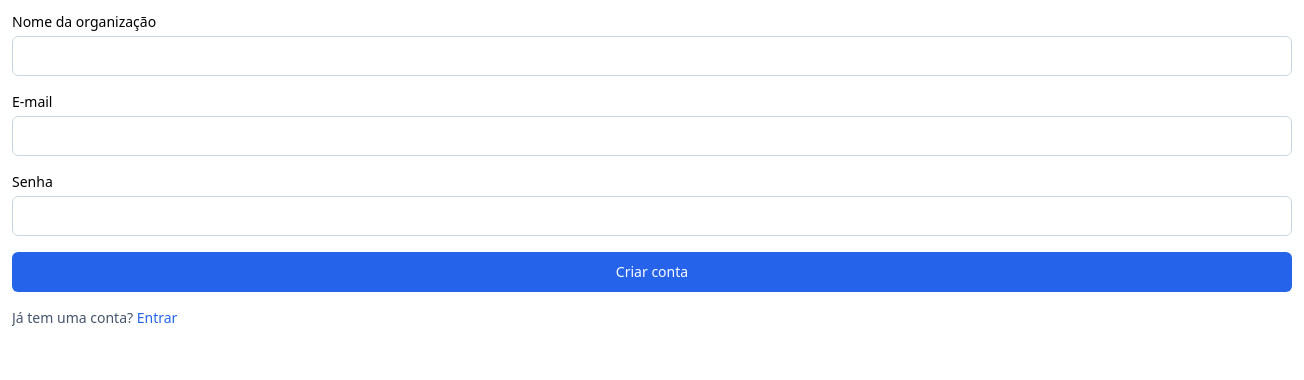
Test: RegisterForm › should show an error message when registration fails
Type "Minha Empresa" into the field labelled "Nome da organização" at (652, 56), box [12,36,1292,76]
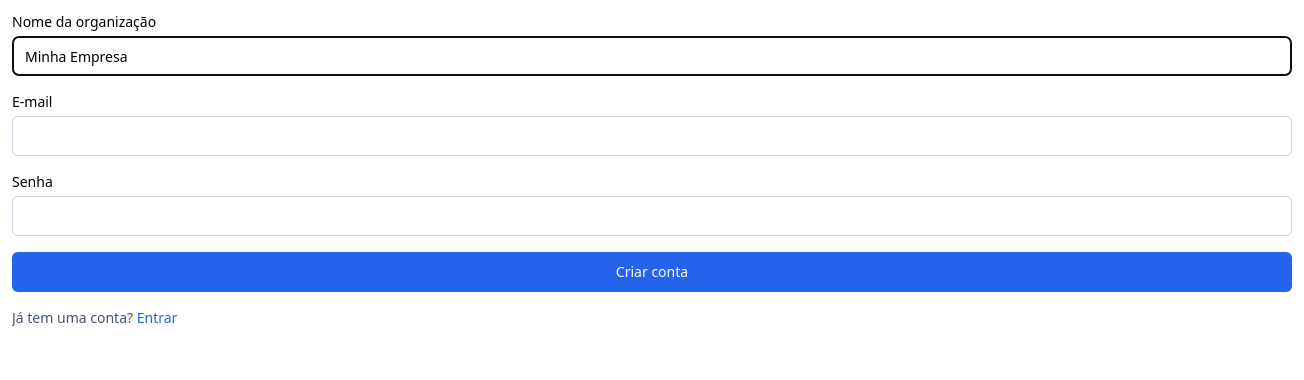
Type "user@example.com" into the field labelled "E-mail" at (652, 136), box [12,116,1292,156]
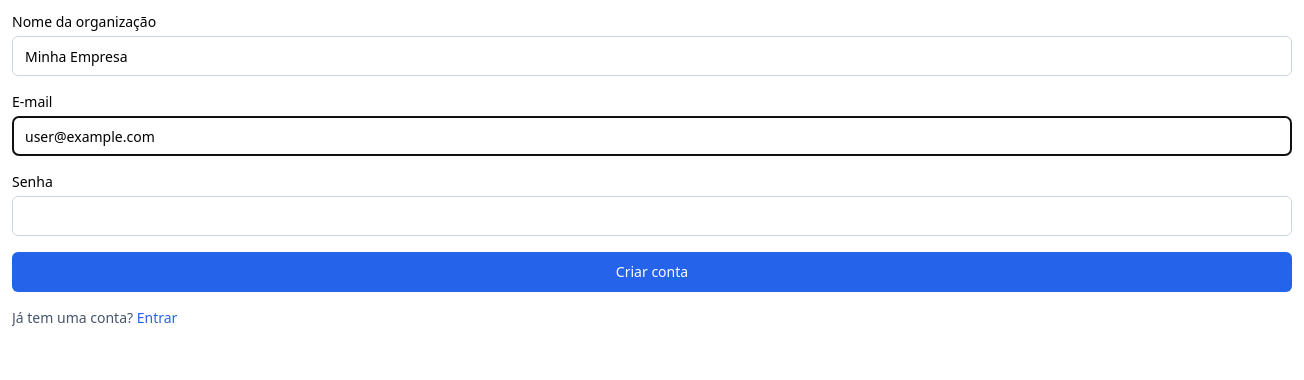
Type "Senha123" into the password field labelled "Senha" at (652, 216), box [12,196,1292,236]
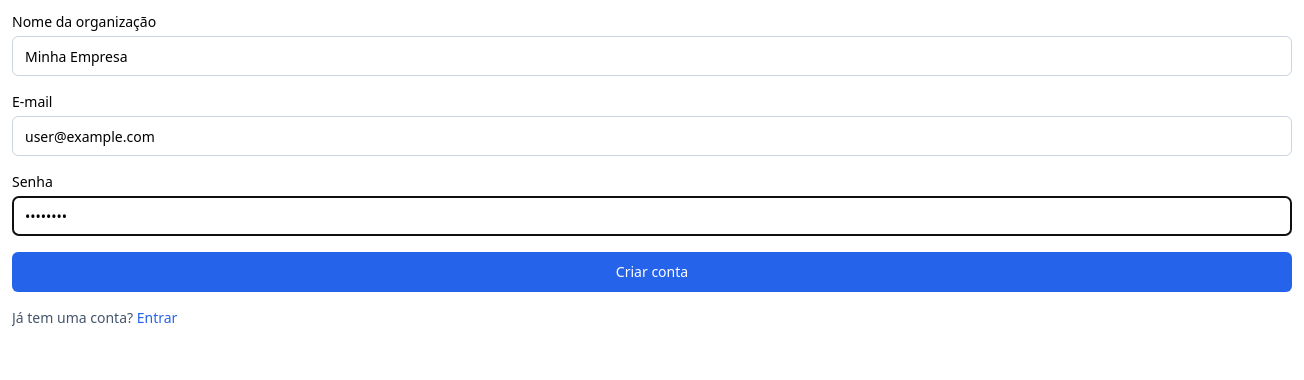
Click the button "Criar conta" at (652, 272), box [12,252,1292,292]
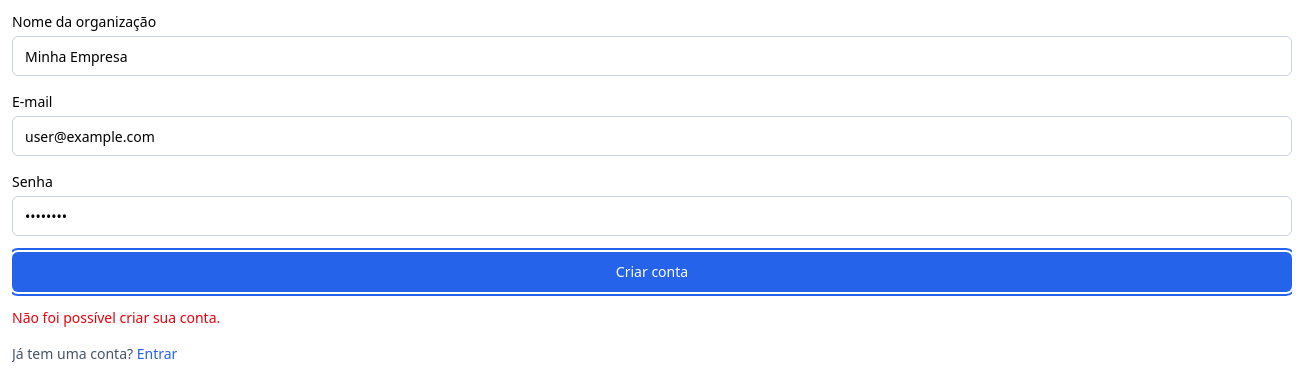
Expected: the text "Não foi possível criar sua conta." is shown, [12,308,220,327]
